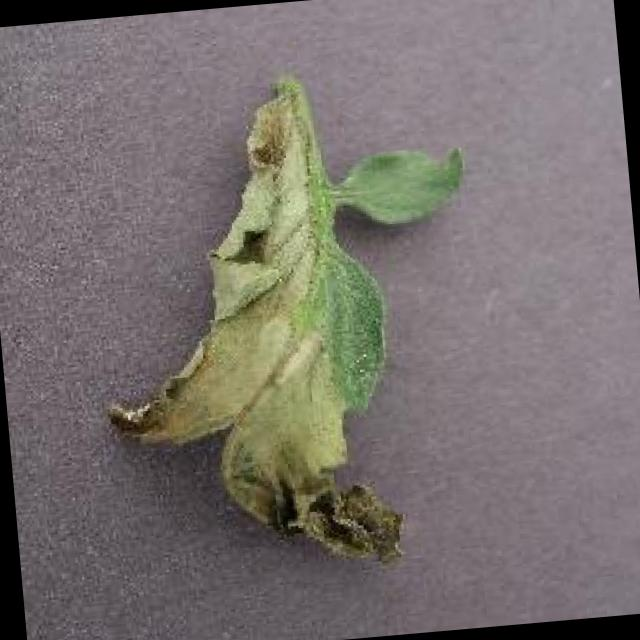Tomato_Late_Blight: (71, 86, 394, 588)
